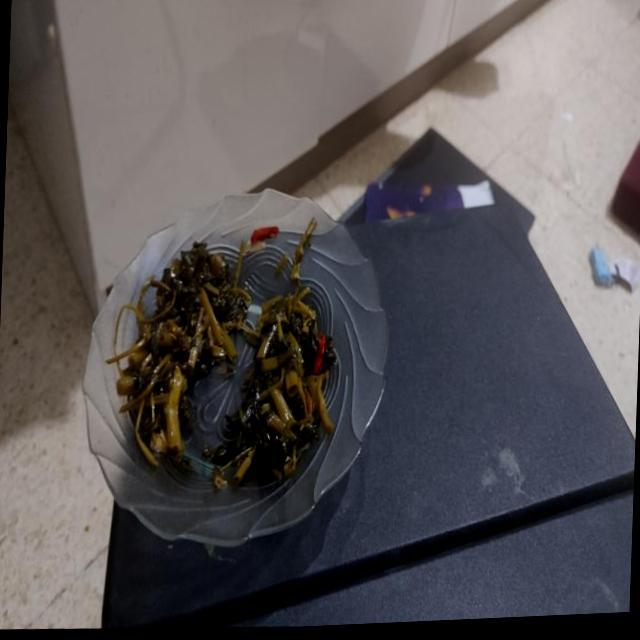tumis_kangkung: (226, 218, 336, 484), (120, 242, 250, 456)
